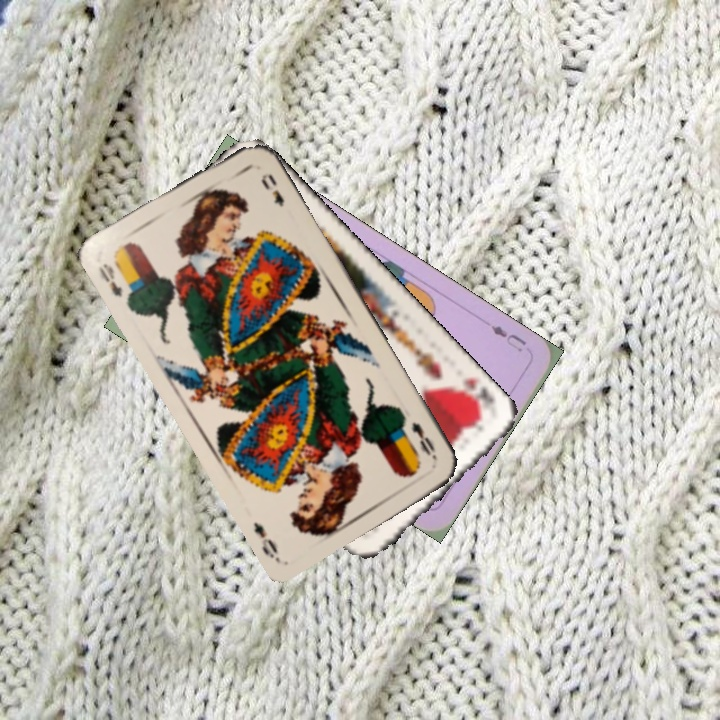EO: (407, 417, 440, 463), (94, 259, 125, 300)
EU: (487, 321, 529, 355)
HK: (450, 373, 499, 417)
